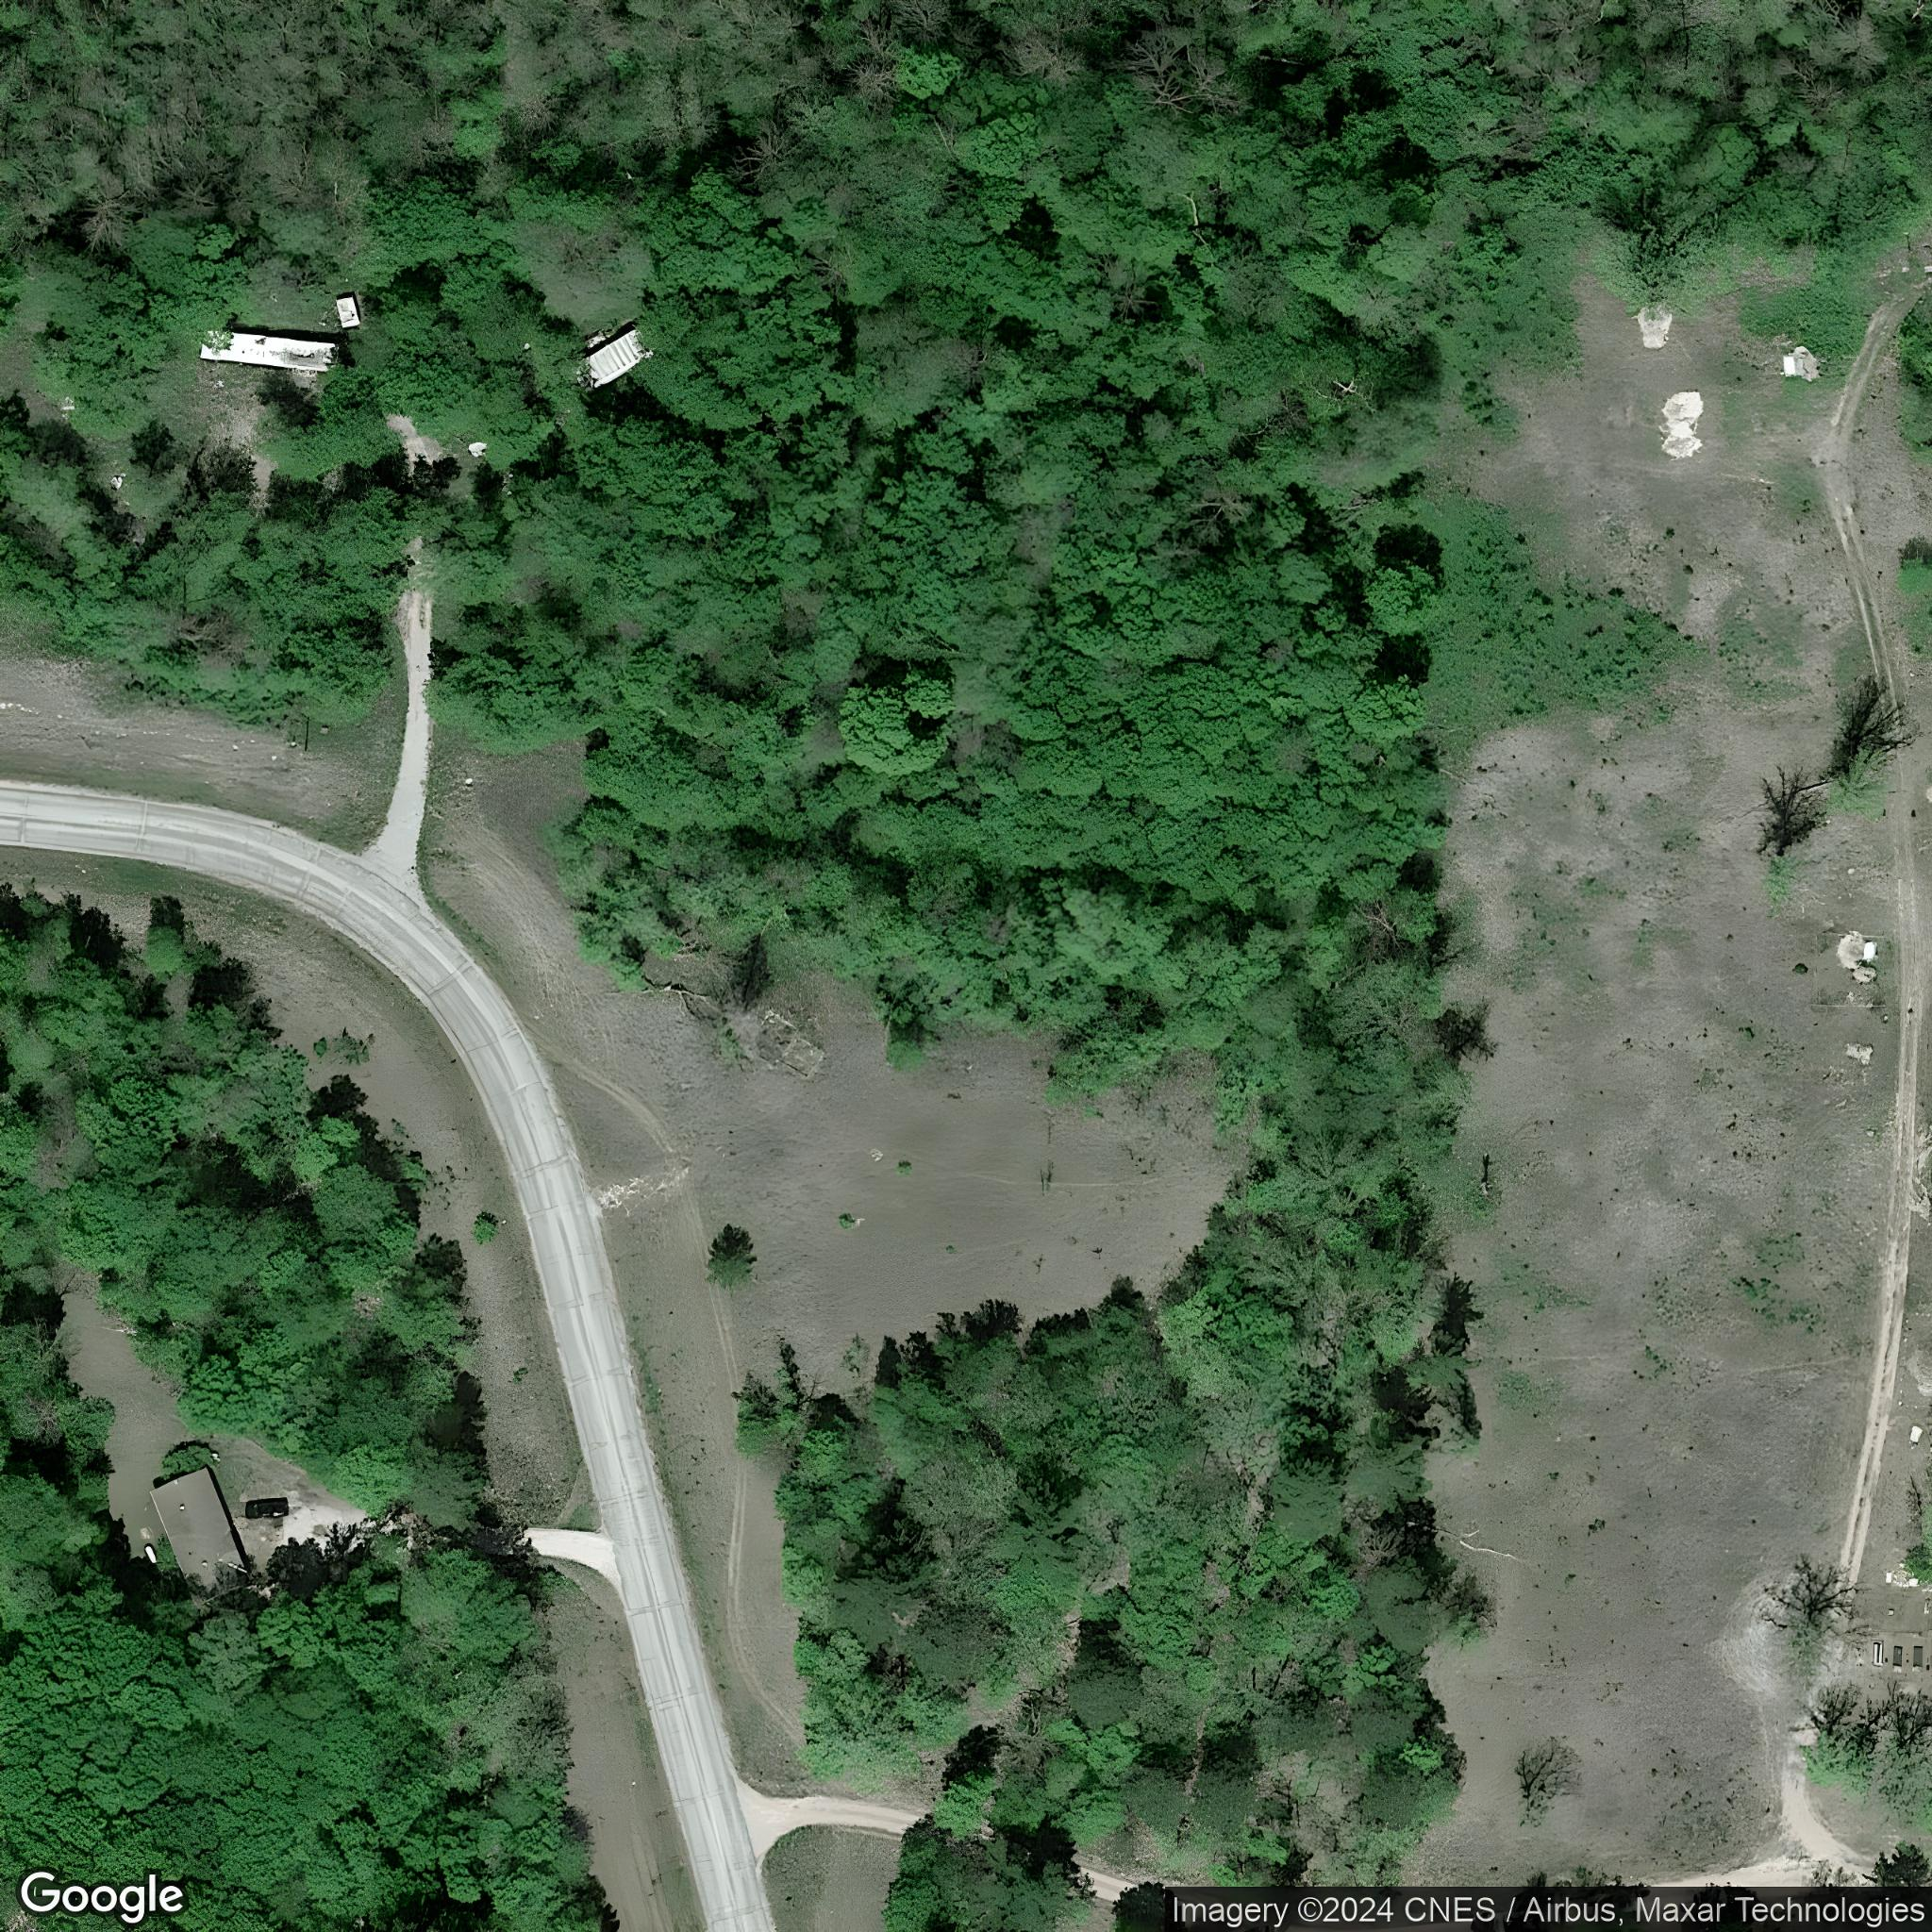House: (147, 1465, 255, 1610)
Propane: (140, 1541, 161, 1566)
Trailer: (196, 327, 341, 375)
